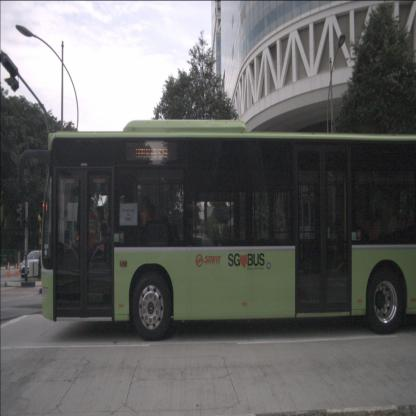movable_object-trafficcone: (6, 261, 11, 279), (14, 262, 19, 276), (18, 260, 22, 274)
vehicle-bus-rigid: (41, 131, 416, 341)
vehicle-car: (20, 250, 51, 278)
